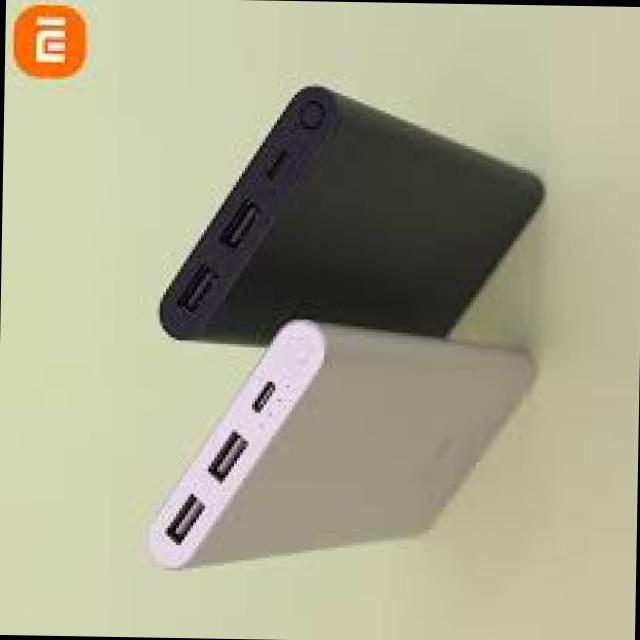portable-charger: (144, 73, 556, 346), (146, 314, 542, 570)
